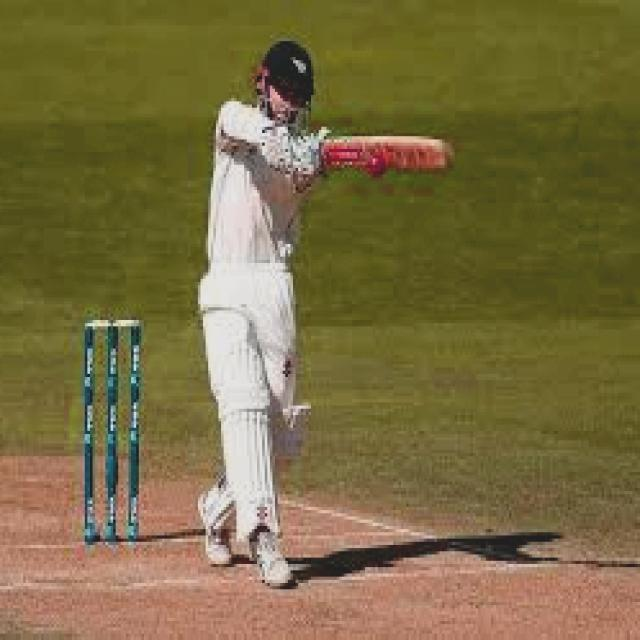toe: (426, 133, 458, 179)
